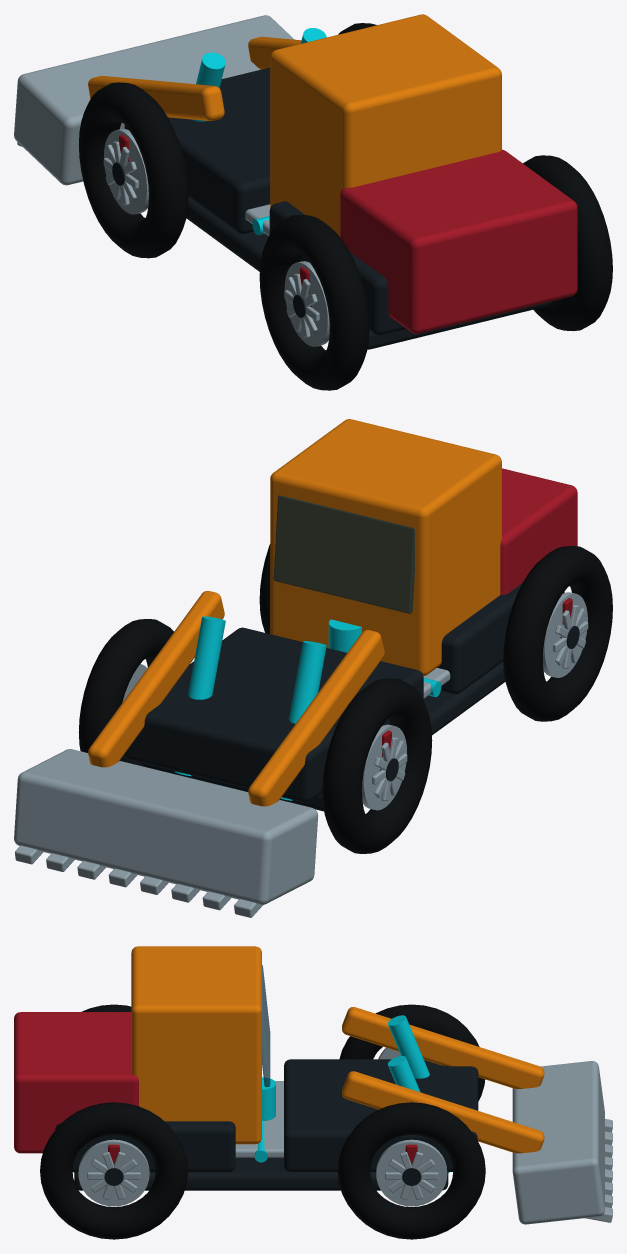
The model's file is terra_loader.glb.
3 views of the same model, one above another, from view 1: azimuth 30°, elevation 25°; view 2: azimuth 150°, elevation 25°; view 3: azimuth 270°, elevation 25° (orthographic). The views are drawn at different scales.
Visible parts, largest first — view 1: meet_mesh__operator_cab__rollover_cell, meet_mesh__engine_module__rear_power_pack, meet_mesh__material_bucket__wide_bucket, meet_mesh__wheel_left_1.78__tire, meet_mesh__wheel_left_-1.82__tire, meet_mesh__articulated_frame__front_half, meet_mesh__wheel_right_1.78__tire, meet_mesh__chassis__lower_frame, meet_mesh__lift_arms__arm_-0.92, meet_mesh__articulated_frame__rear_half, meet_mesh__wheel_left_1.78__brake_disc, meet_mesh__wheel_left_-1.82__brake_disc (+2 smaller); view 2: meet_mesh__operator_cab__rollover_cell, meet_mesh__material_bucket__wide_bucket, meet_mesh__articulated_frame__front_half, meet_mesh__cab_glass__front_screen, meet_mesh__wheel_left_1.78__tire, meet_mesh__wheel_left_-1.82__tire, meet_mesh__engine_module__rear_power_pack, meet_mesh__lift_arms__arm_-0.92, meet_mesh__lift_arms__arm_0.92, meet_mesh__wheel_right_-1.82__tire, meet_mesh__articulated_frame__rear_half, meet_mesh__chassis__lower_frame (+6 smaller); view 3: meet_mesh__operator_cab__rollover_cell, meet_mesh__engine_module__rear_power_pack, meet_mesh__material_bucket__wide_bucket, meet_mesh__wheel_right_1.78__tire, meet_mesh__wheel_right_-1.82__tire, meet_mesh__articulated_frame__front_half, meet_mesh__lift_arms__arm_-0.92, meet_mesh__lift_arms__arm_0.92, meet_mesh__chassis__lower_frame, meet_mesh__articulated_frame__rear_half, meet_mesh__wheel_left_-1.82__tire, meet_mesh__wheel_right_1.78__brake_disc (+6 smaller).
Part boxes in pixels (x1,y1,x2,y2): meet_mesh__operator_cab__rollover_cell: [270, 14, 501, 236]; meet_mesh__engine_module__rear_power_pack: [340, 149, 577, 333]; meet_mesh__material_bucket__wide_bucket: [14, 15, 294, 185]; meet_mesh__wheel_left_1.78__tire: [259, 214, 369, 390]; meet_mesh__wheel_left_-1.82__tire: [78, 82, 188, 258]; meet_mesh__articulated_frame__front_half: [124, 67, 270, 233]; meet_mesh__wheel_right_1.78__tire: [523, 155, 612, 331]; meet_mesh__chassis__lower_frame: [186, 197, 551, 349]; meet_mesh__lift_arms__arm_-0.92: [88, 76, 224, 120]; meet_mesh__articulated_frame__rear_half: [269, 201, 406, 335]; meet_mesh__wheel_left_1.78__brake_disc: [284, 261, 329, 346]; meet_mesh__wheel_left_-1.82__brake_disc: [104, 128, 148, 214]; meet_mesh__operator_cab__rollover_cell: [270, 419, 501, 676]; meet_mesh__material_bucket__wide_bucket: [14, 749, 318, 904]; meet_mesh__articulated_frame__front_half: [124, 627, 423, 802]; meet_mesh__cab_glass__front_screen: [273, 495, 414, 613]; meet_mesh__wheel_left_1.78__tire: [503, 546, 612, 721]; meet_mesh__wheel_left_-1.82__tire: [322, 678, 432, 853]; meet_mesh__engine_module__rear_power_pack: [500, 468, 577, 594]; meet_mesh__lift_arms__arm_-0.92: [248, 630, 384, 806]; meet_mesh__lift_arms__arm_0.92: [88, 591, 224, 767]; meet_mesh__wheel_right_-1.82__tire: [78, 619, 173, 766]; meet_mesh__articulated_frame__rear_half: [269, 583, 564, 694]; meet_mesh__chassis__lower_frame: [141, 661, 505, 811]; meet_mesh__operator_cab__rollover_cell: [131, 946, 261, 1144]; meet_mesh__engine_module__rear_power_pack: [14, 1012, 138, 1153]; meet_mesh__material_bucket__wide_bucket: [512, 1061, 604, 1224]; meet_mesh__wheel_right_1.78__tire: [40, 1102, 187, 1239]; meet_mesh__wheel_right_-1.82__tire: [337, 1102, 485, 1239]; meet_mesh__articulated_frame__front_half: [284, 1059, 478, 1171]; meet_mesh__lift_arms__arm_-0.92: [342, 1007, 544, 1088]; meet_mesh__lift_arms__arm_0.92: [342, 1071, 544, 1153]; meet_mesh__chassis__lower_frame: [74, 1158, 448, 1190]; meet_mesh__articulated_frame__rear_half: [55, 1121, 235, 1172]; meet_mesh__wheel_left_-1.82__tire: [339, 1004, 485, 1101]; meet_mesh__wheel_right_1.78__brake_disc: [78, 1139, 149, 1206].
Bounding box in the file's own units: 3.19 × 2.85 × 7.24.
